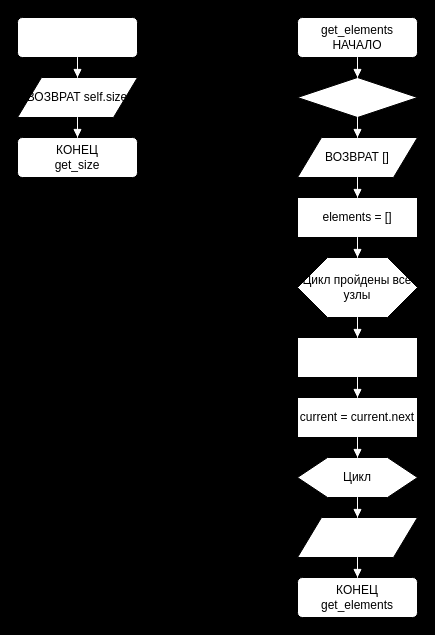
This 435x635 diagram has some shape labels left out. Each missing label, with the box of its shape:
get_size НАЧАЛО: (16, 16, 138, 58)
tail = None: (296, 76, 418, 118)
ВОЗВРАТ elements: (296, 516, 418, 558)
Добавить current.data: (296, 336, 418, 378)
